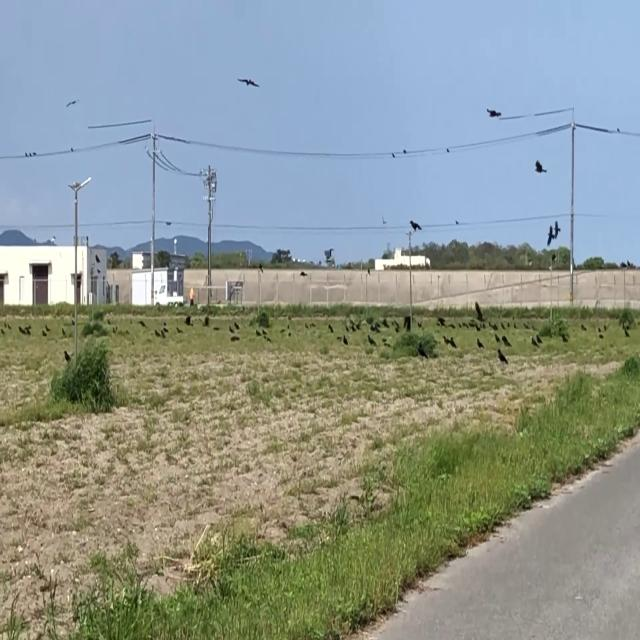bird: (238, 68, 258, 95), (534, 153, 545, 179), (409, 214, 421, 237), (488, 100, 500, 123), (547, 221, 555, 247), (498, 342, 506, 366), (502, 332, 508, 350), (28, 146, 34, 159), (451, 334, 455, 352), (343, 330, 347, 347), (532, 335, 536, 351)
